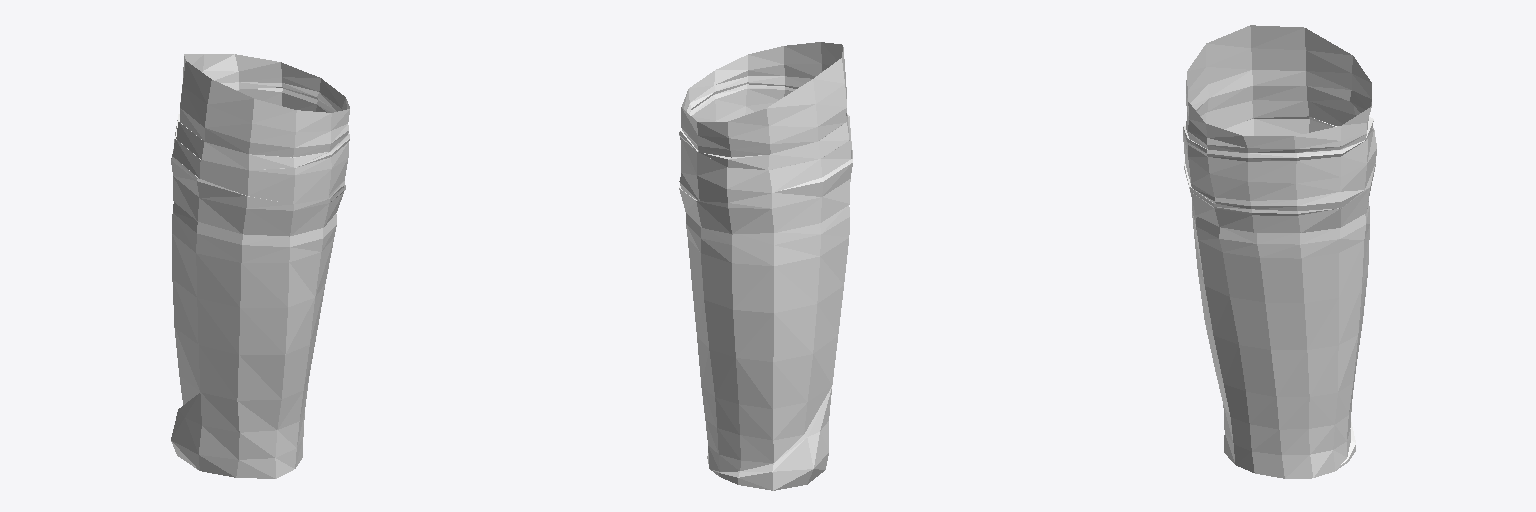
The model's file is Blade_PiernaDer.obj.
3 views of the same model, side by side, from view 1: azimuth 30°, elevation 25°; view 2: azimuth 150°, elevation 25°; view 3: azimuth 270°, elevation 25° (orthographic).
Parts seen in each view (by area): view 1: Pierna_Der; view 2: Pierna_Der; view 3: Pierna_Der.
Boxes of the visible parts, <box> form: Pierna_Der: <box>171,54,349,478</box>; Pierna_Der: <box>679,42,852,490</box>; Pierna_Der: <box>1183,25,1376,478</box>.
Bounding box in the file's own units: 0.7928 × 2.12 × 0.9232.